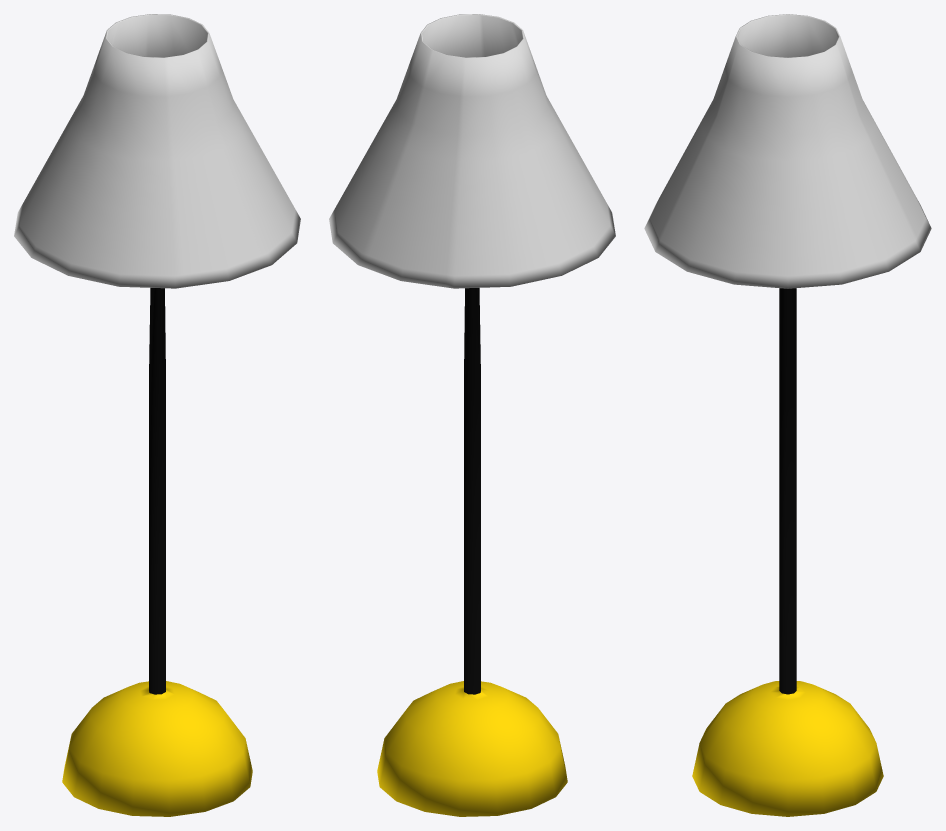
The model's file is Abajur.fbx.
3 renders of one model, left to right at view 1: azimuth 30°, elevation 25°; view 2: azimuth 150°, elevation 25°; view 3: azimuth 270°, elevation 25°, orthographic.
Parts seen in each view (by area): view 1: Sphere.002, Sphere.001; view 2: Sphere.002, Sphere.001; view 3: Sphere.002, Sphere.001.
Part boxes in pixels (left/top/right/bottom): Sphere.002: left=14, top=14, right=300, bottom=288; Sphere.001: left=62, top=288, right=252, bottom=816; Sphere.002: left=329, top=14, right=615, bottom=288; Sphere.001: left=377, top=288, right=567, bottom=816; Sphere.002: left=644, top=14, right=931, bottom=288; Sphere.001: left=692, top=288, right=883, bottom=816.
Size of the model in its own units: 151 by 424 by 149.
